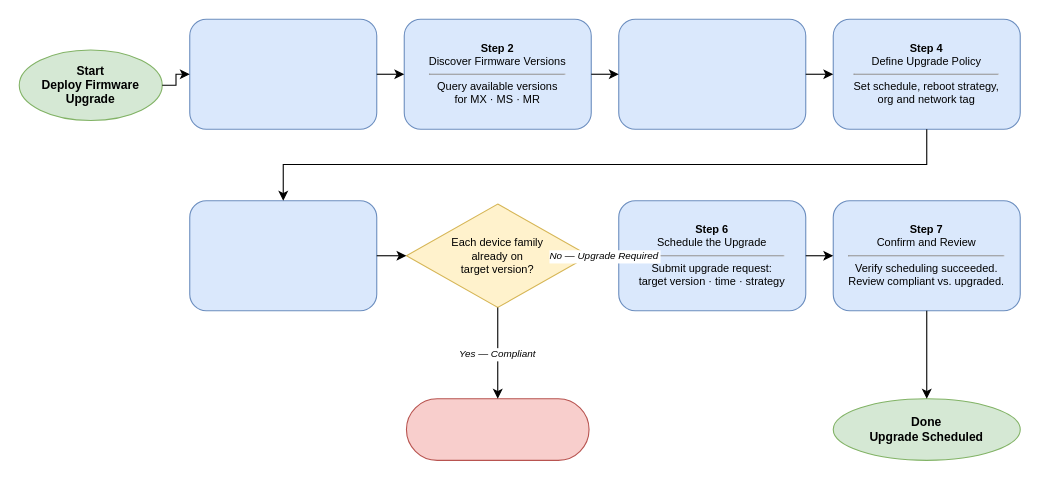
The diagram is 1040 pixels wide and 480 high, and some of its shapes have lost their labels. Here are the shapes that lost their labels. From the top down, the centre of each, then its label:
At [283,73]: "Step 1 Identify Target Networks Group networks by tag in Meraki Dashboard".
At [712,73]: "Step 3 Choose Target Versions Select desired firmware and record Version IDs".
At [283,255]: "Step 5 Check Current State Query installed firmware per device family".
At [497,429]: "No action needed. Already on target firmware.".
